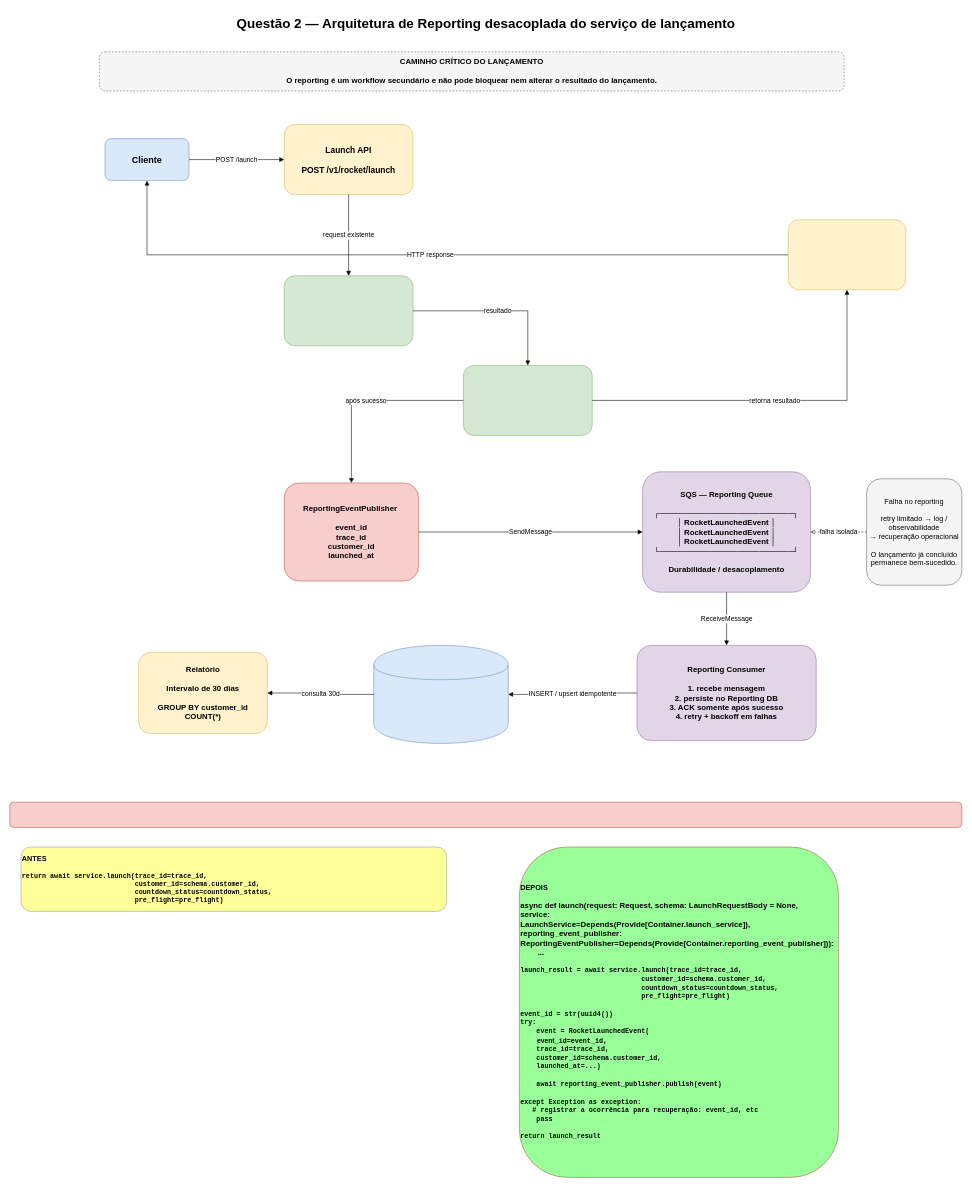
The diagram is 972 pixels wide and 1187 high, and some of its shapes have lost their labels. The shapes that lost their labels are listed below. From the top down, each one's centre as x and y in pixels, then its label:
(847,254): Resposta HTTP retorna launch_result
(348,310): LaunchService Executa o lançamento
(527,400): Lançamento concluído launch_result
(440,694): Reporting DB Banco de dados paralelo event_id (UNIQUE) customer_id launched_at
(485,814): ALTERAÇÃO NO ENDPOINT EXISTENTE
